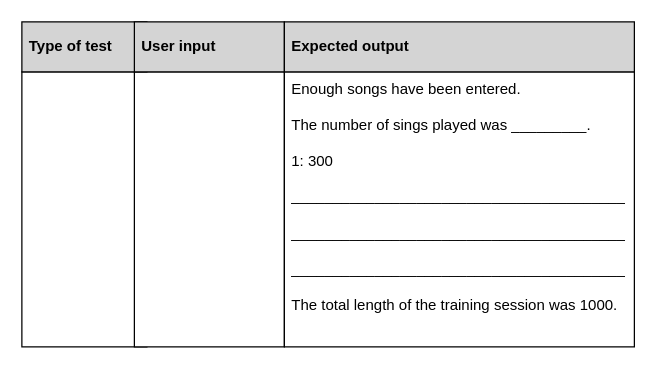
Image size: 656x369. Some labels were removed from this diagram. Here are the shapes that lost their labels. From the top down, the centre of each, then its label:
point 84,209: Normal
point 208,209: Duration of training session: 15 song 1: 300 song 2: 300 song 3: 400
